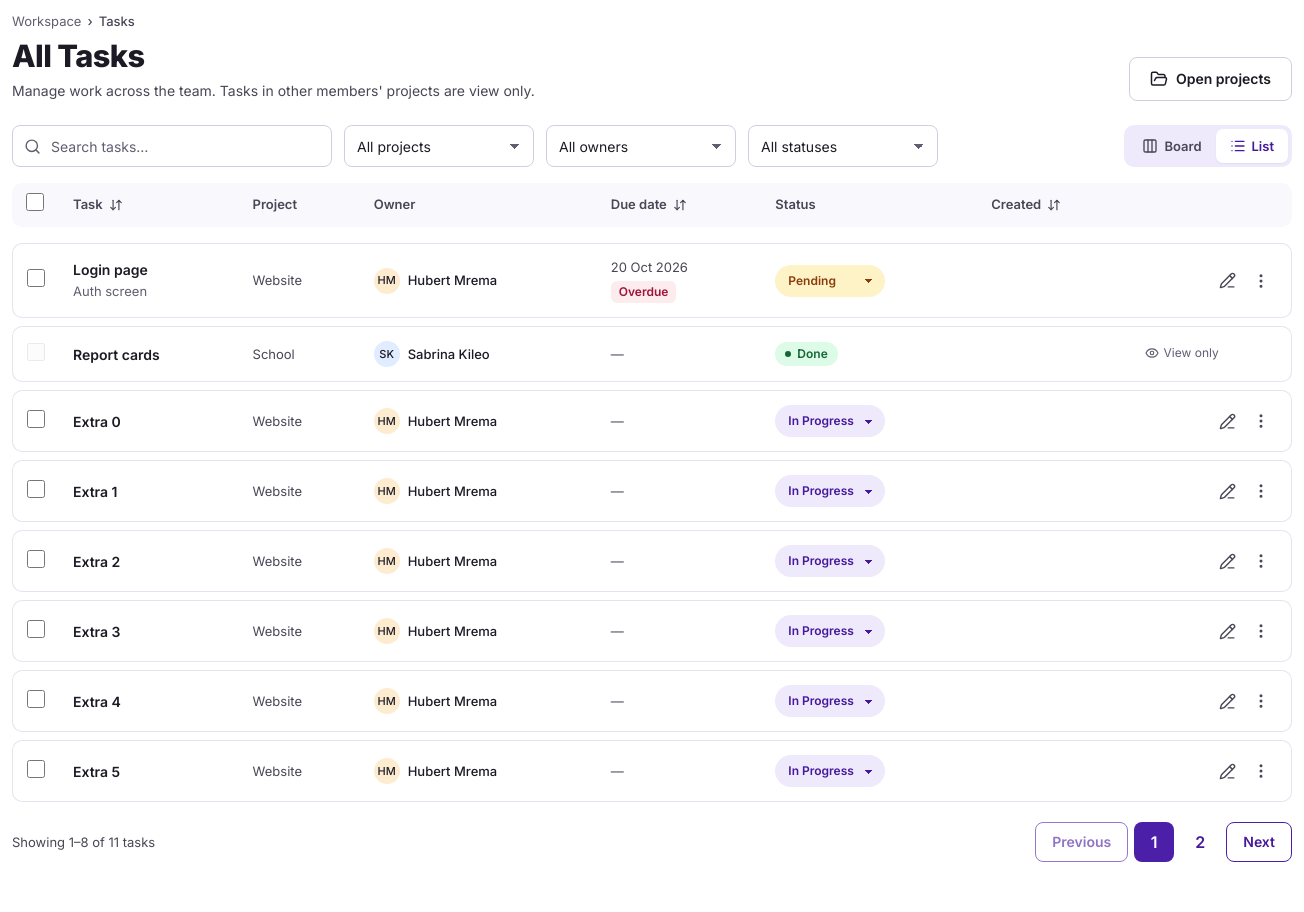
Test: paginates, searches and filters by owner
Expected: the text "Showing 1–8 of 11 tasks" is shown, [12,833,155,852]
Click the button named "Page 2" at (1200, 842), box [1180,822,1220,862]
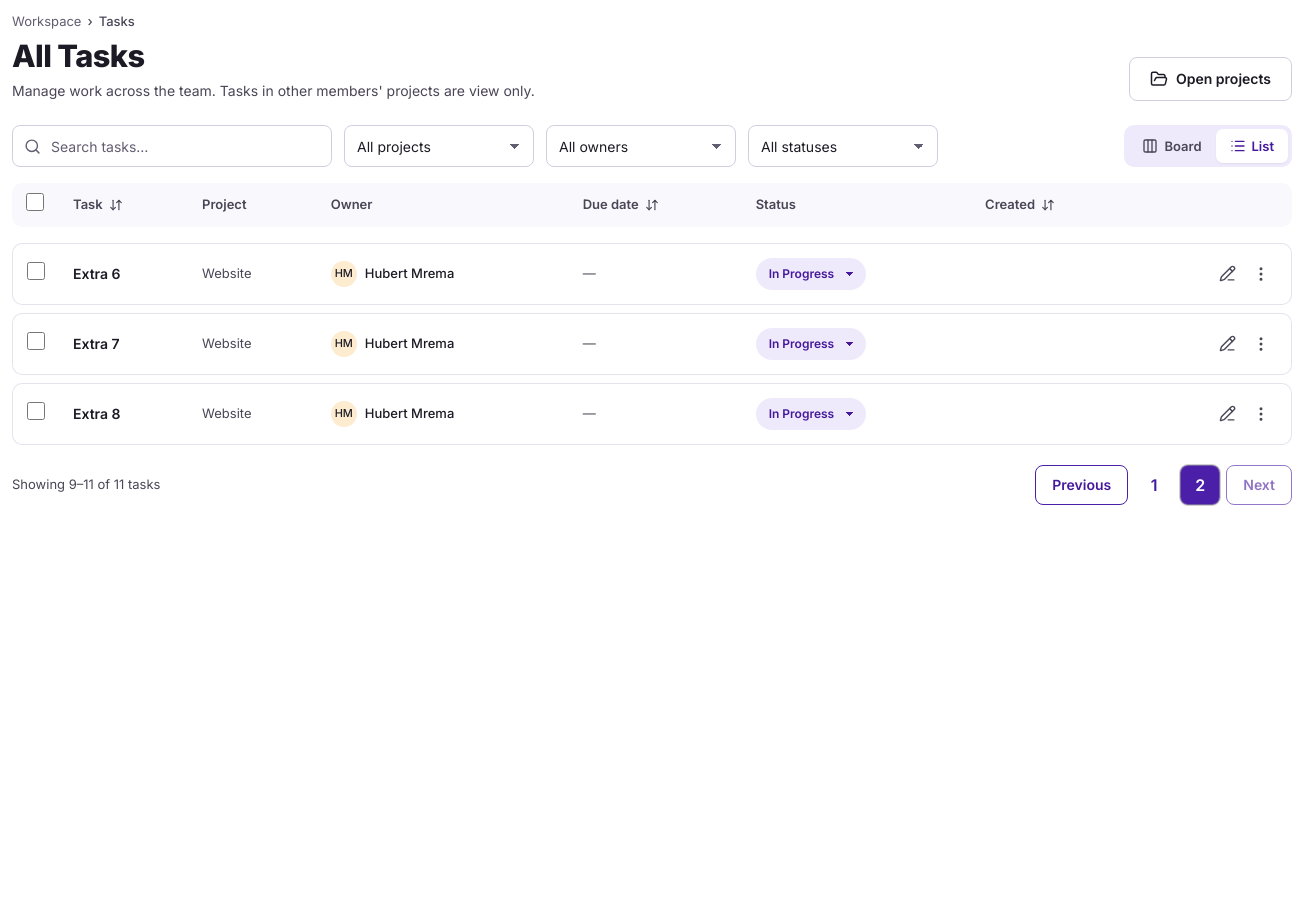
Expected: the text "Showing 9–11 of 11 tasks" is shown, [12,475,160,495]
Type "auth" into the search field labelled "Search tasks" at (172, 146), box [12,125,332,167]
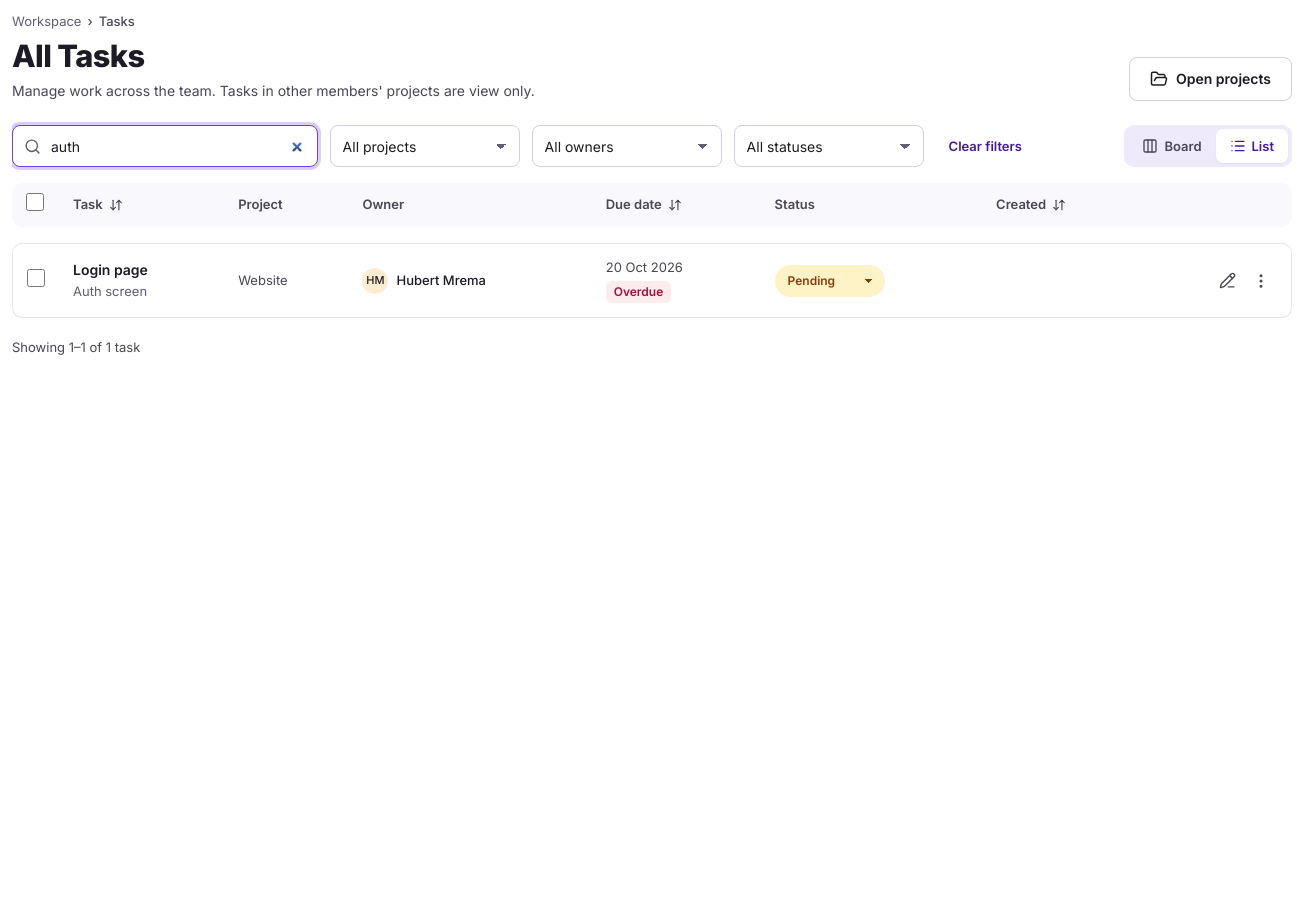
Expected: the heading "Login page" is shown, [73,261,148,278]
Expected: the number of rows is 2, [12,183,1292,227]; [12,243,1292,318]
Clear the search field named "Search tasks" at (165, 146), box [12,125,318,167]
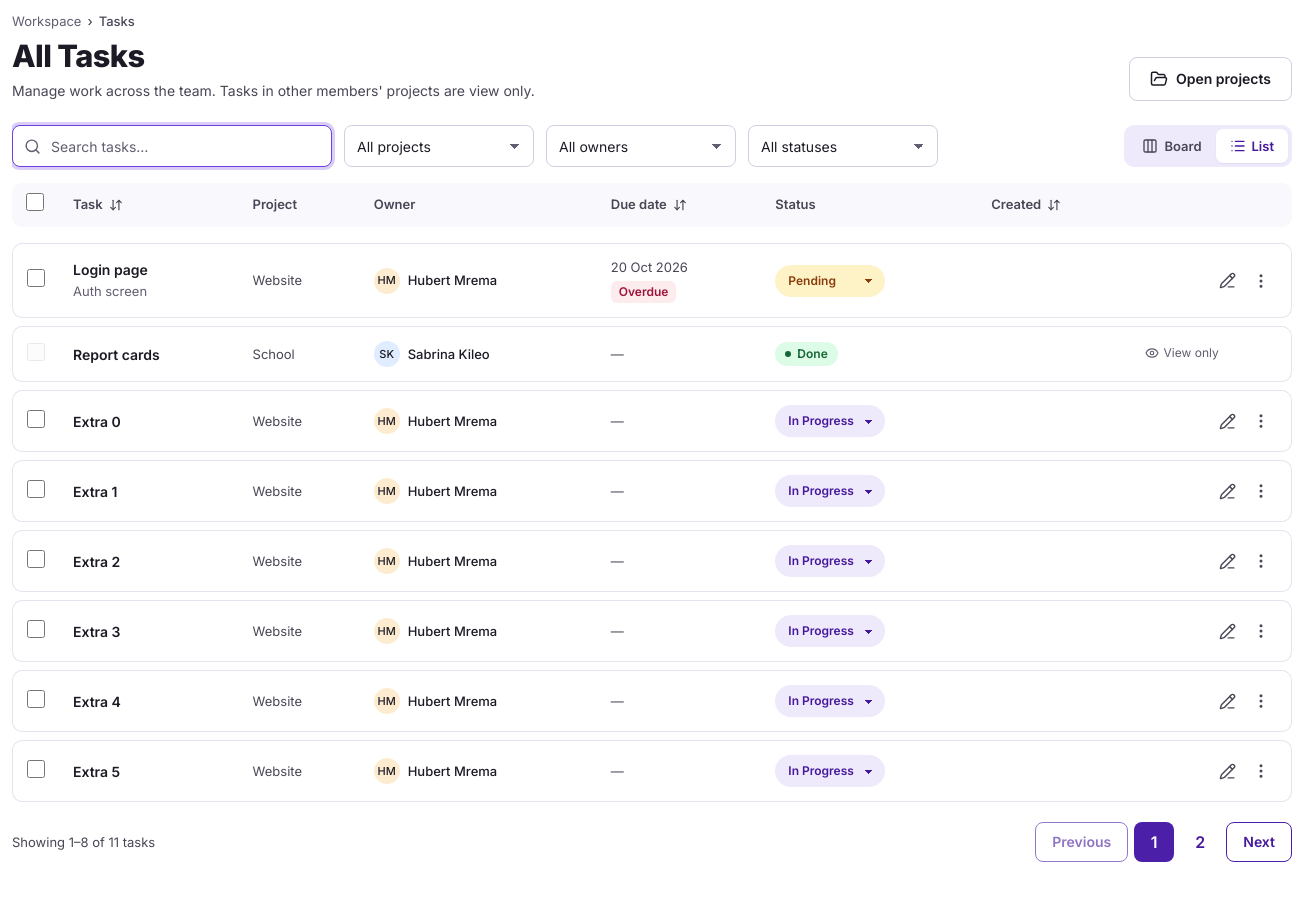
Select "Sabrina Kileo" in the dropdown named "Filter by owner" at (641, 146), box [546,125,736,167]
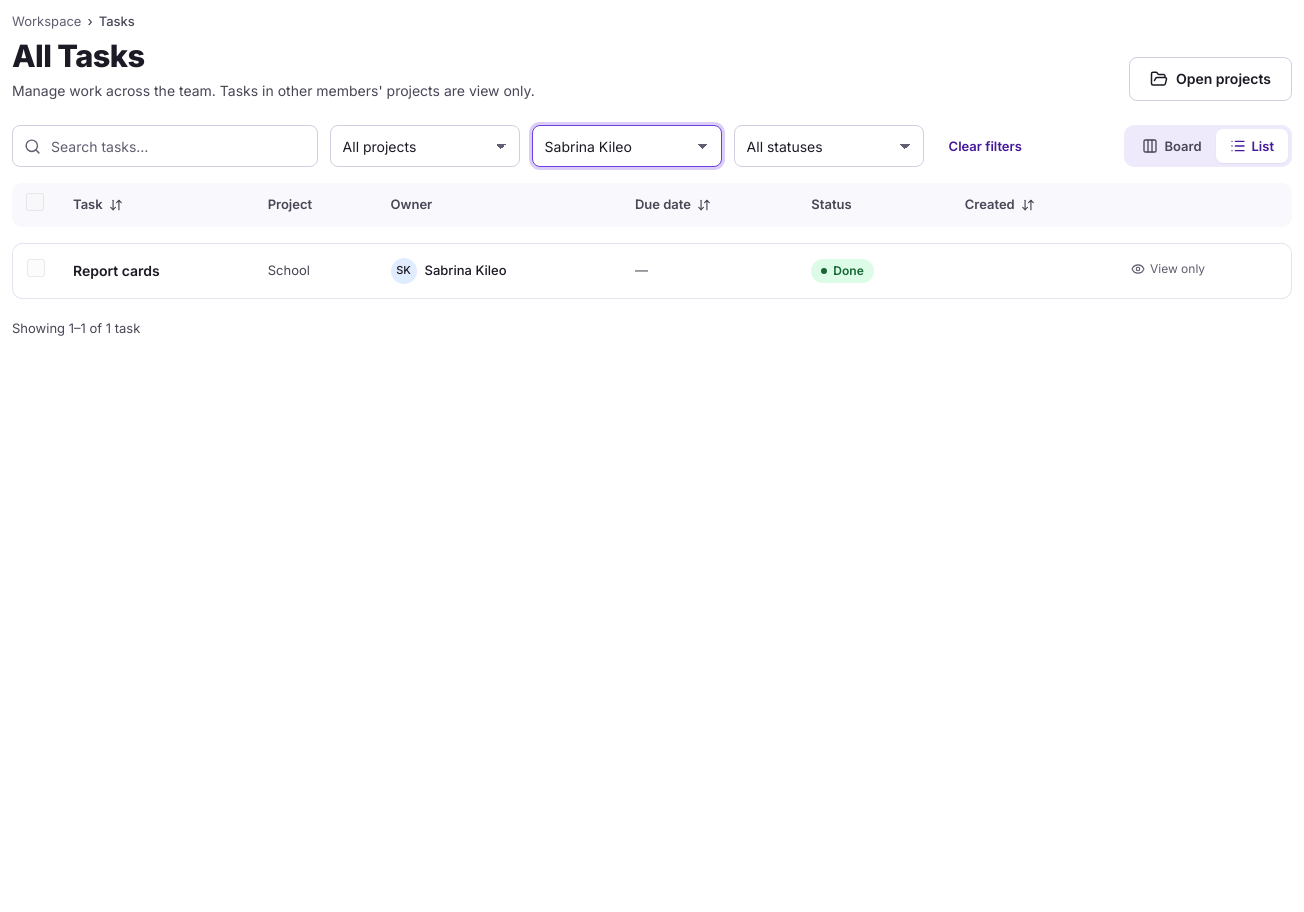
Expected: the heading "Report cards" is shown, [73,262,160,279]
Expected: the heading "Login page" is gone
